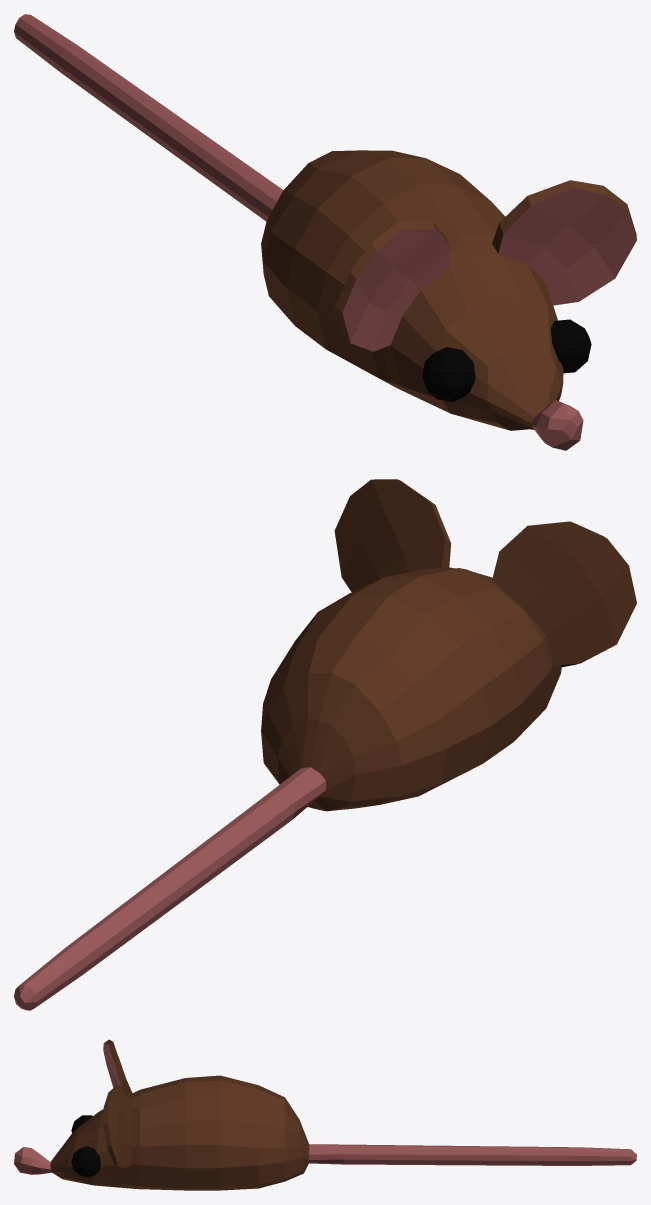
Rendered from ratastrophic_rat.fbx.
The picture shows the model from 3 angles, top to bottom: view 1: azimuth 30°, elevation 25°; view 2: azimuth 150°, elevation 25°; view 3: azimuth 270°, elevation 25°; orthographic projection. The views are drawn at different scales.
Visible parts, largest first — view 1: Cylinder; view 2: Cylinder; view 3: Cylinder.
Boxes of the visible parts, bbox=[...] form: Cylinder: bbox=[14, 14, 636, 450]; Cylinder: bbox=[14, 479, 636, 1010]; Cylinder: bbox=[14, 1039, 636, 1190].
Size of the model in its own units: 125 by 79.21 by 395.
